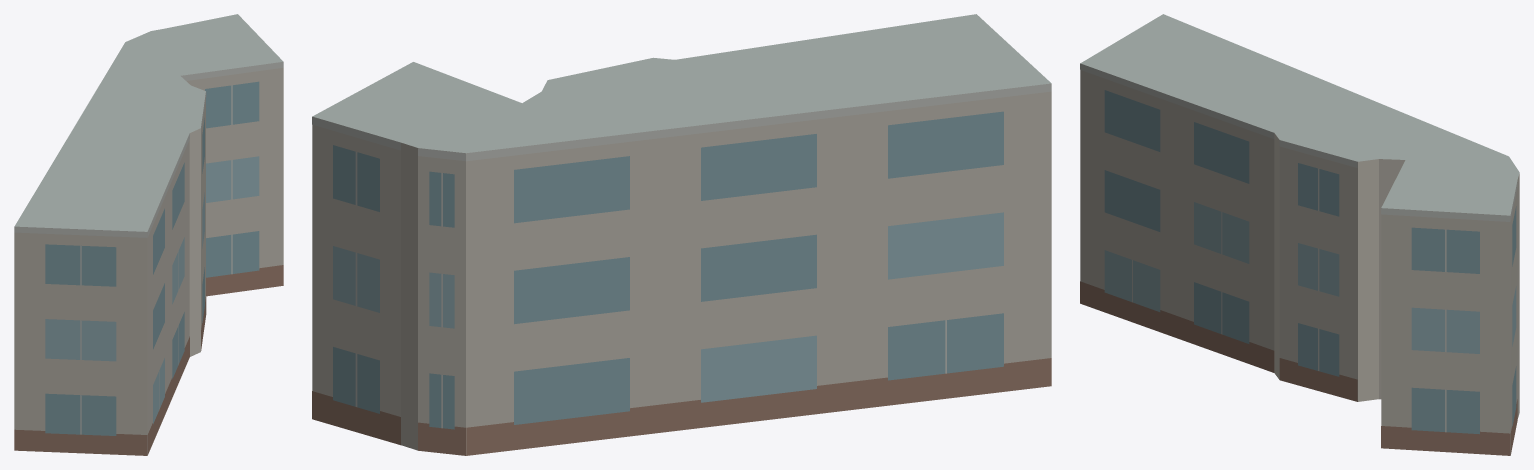
File: survey-upis-32456359.glb
3 views of the same model, side by side, from view 1: azimuth 30°, elevation 25°; view 2: azimuth 150°, elevation 25°; view 3: azimuth 270°, elevation 25° (orthographic). The views are drawn at different scales.
Visible parts, largest first — view 1: survey-upis-32456359.tmp; view 2: survey-upis-32456359.tmp; view 3: survey-upis-32456359.tmp.
Boxes of the visible parts, bbox=[...] form: survey-upis-32456359.tmp: bbox=[14, 14, 283, 455]; survey-upis-32456359.tmp: bbox=[312, 14, 1051, 455]; survey-upis-32456359.tmp: bbox=[1080, 14, 1519, 455].
Bounding box in the file's own units: 16.49 × 9.15 × 15.18.
